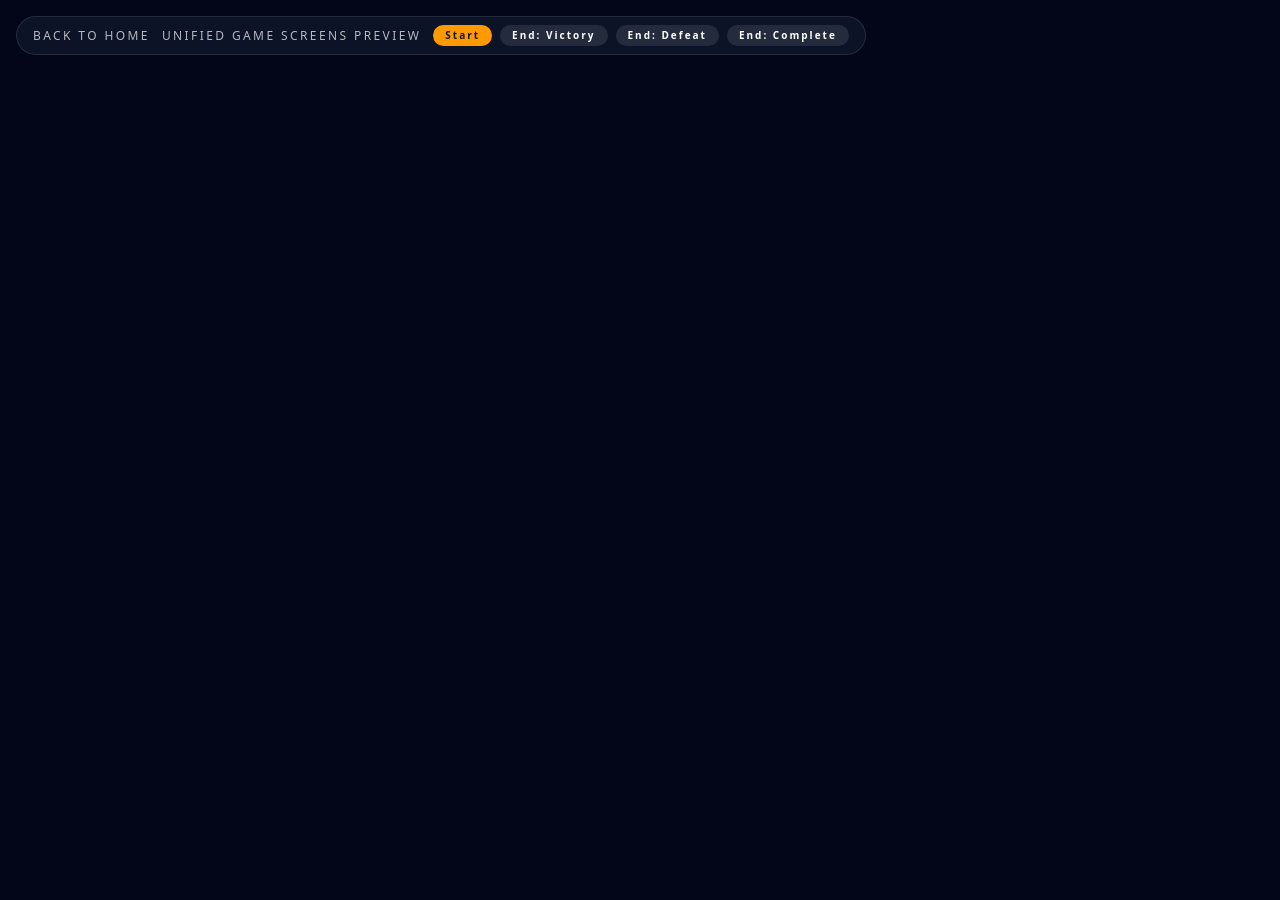
Test: GameScreensDevPage › switches to a victory end screen preview
The image size is (1280, 900).
Click the button "End: Victory": (554, 36) [500,25,608,46]
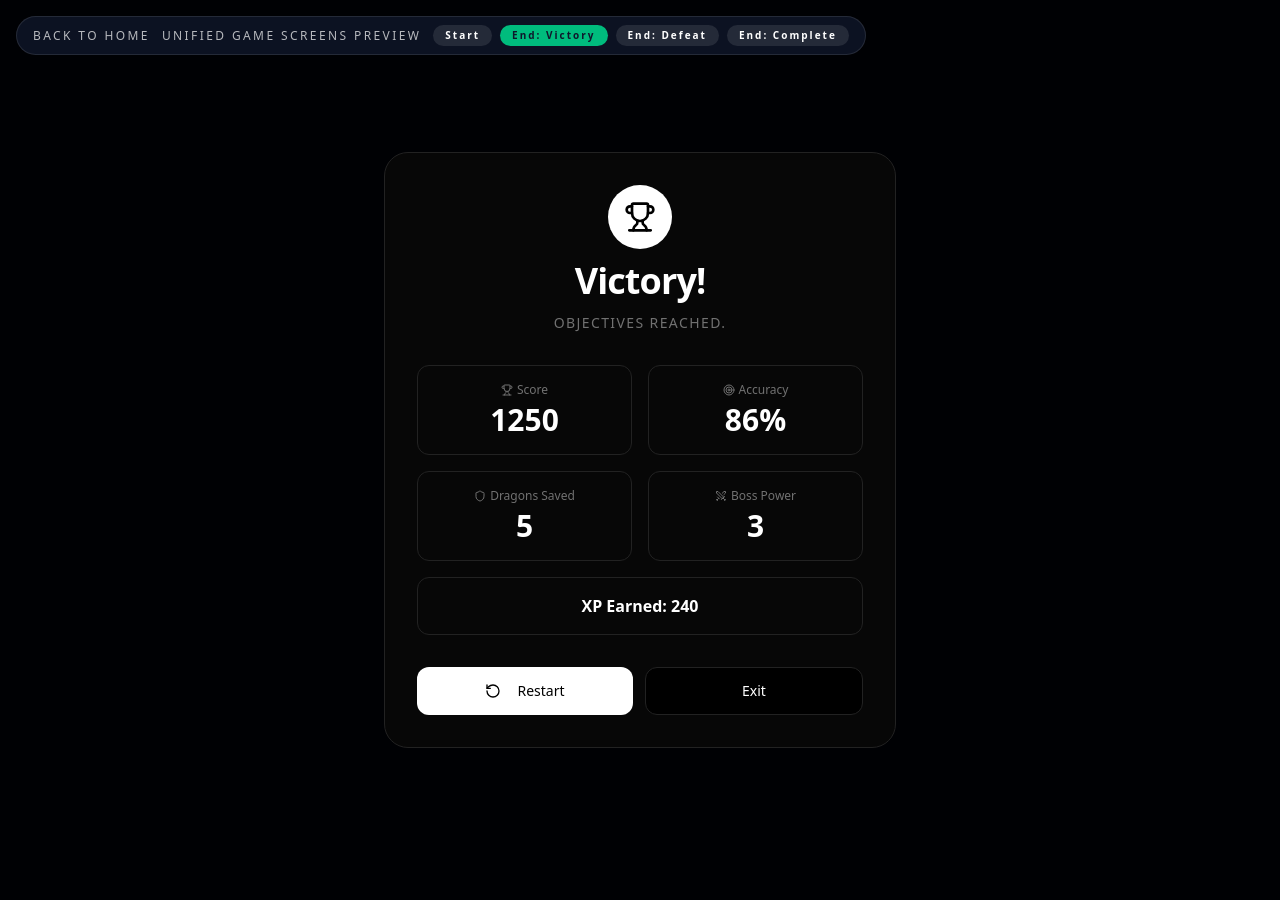
Check: the heading "Victory!" is shown, box [575,256,705,305]
